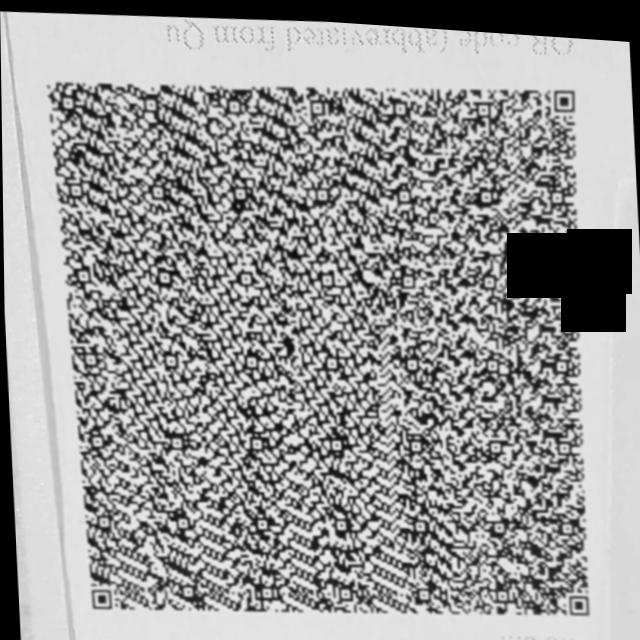QR_CODE: (23, 34, 616, 640)
